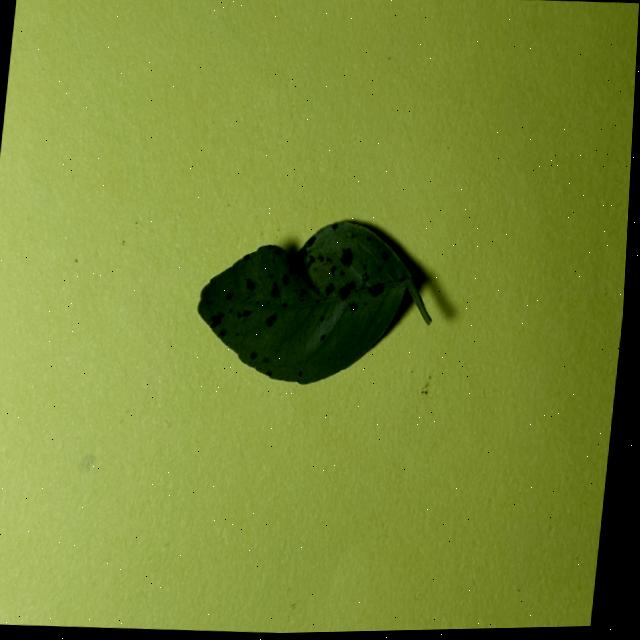sooty_mold: (198, 221, 430, 383)
